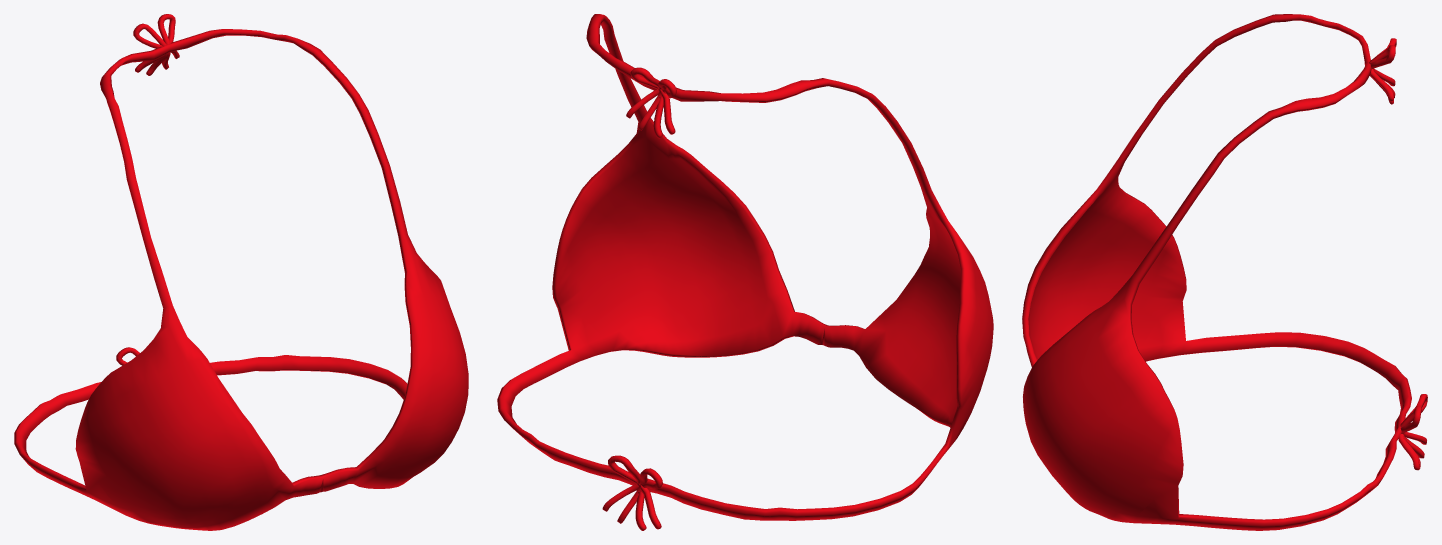
The model's file is Male_bra1.fbx.
The picture shows the model from 3 angles, left to right: view 1: azimuth 30°, elevation 25°; view 2: azimuth 150°, elevation 25°; view 3: azimuth 270°, elevation 25°; orthographic projection. The views are drawn at different scales.
Visible parts, largest first — view 1: Bra2; view 2: Bra2; view 3: Bra2.
Part boxes in pixels (<box>): Bra2: <box>14,14,468,530</box>; Bra2: <box>497,14,993,530</box>; Bra2: <box>1022,14,1427,530</box>.
Bounding box in the file's own units: 21.36 × 21.98 × 19.18.
